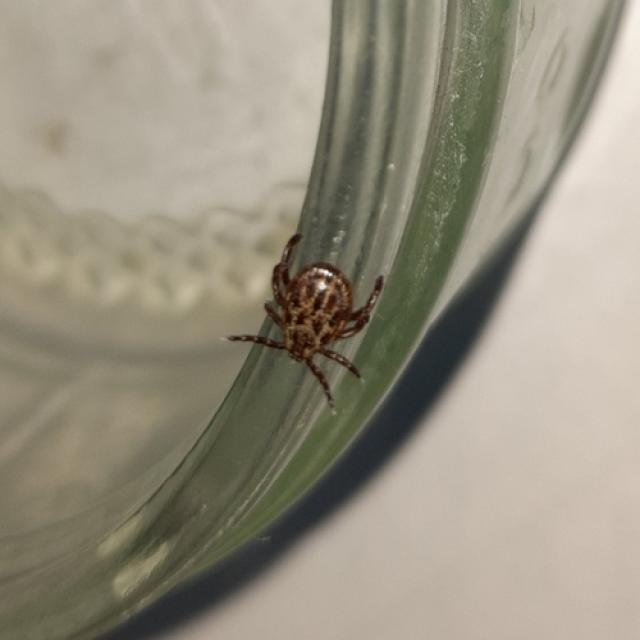Dermacentor Reticulatus-M: (228, 234, 384, 408)
